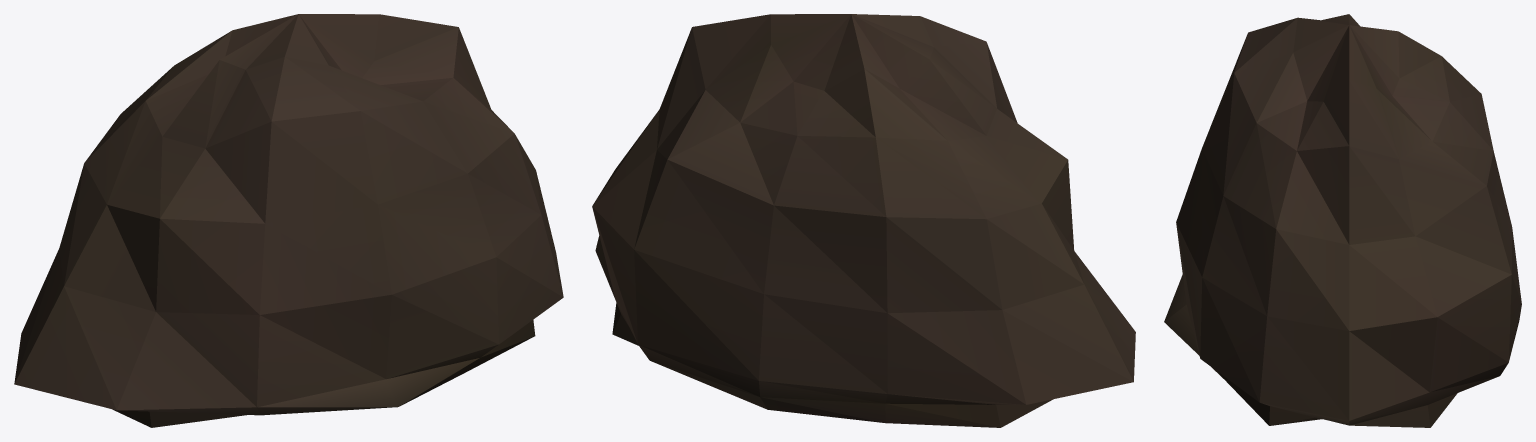
Rendered from boulder_v0.glb.
The picture shows the model from 3 angles, left to right: view 1: azimuth 30°, elevation 25°; view 2: azimuth 150°, elevation 25°; view 3: azimuth 270°, elevation 25°; orthographic projection. The views are drawn at different scales.
Parts seen in each view (by area): view 1: boulder_v0.glb; view 2: boulder_v0.glb; view 3: boulder_v0.glb.
Part boxes in pixels (x1,y1,x2,y2): boulder_v0.glb: (14,14,563,427); boulder_v0.glb: (592,14,1135,427); boulder_v0.glb: (1164,14,1521,427).
Bounding box in the file's own units: 1 × 0.6354 × 0.6167.
